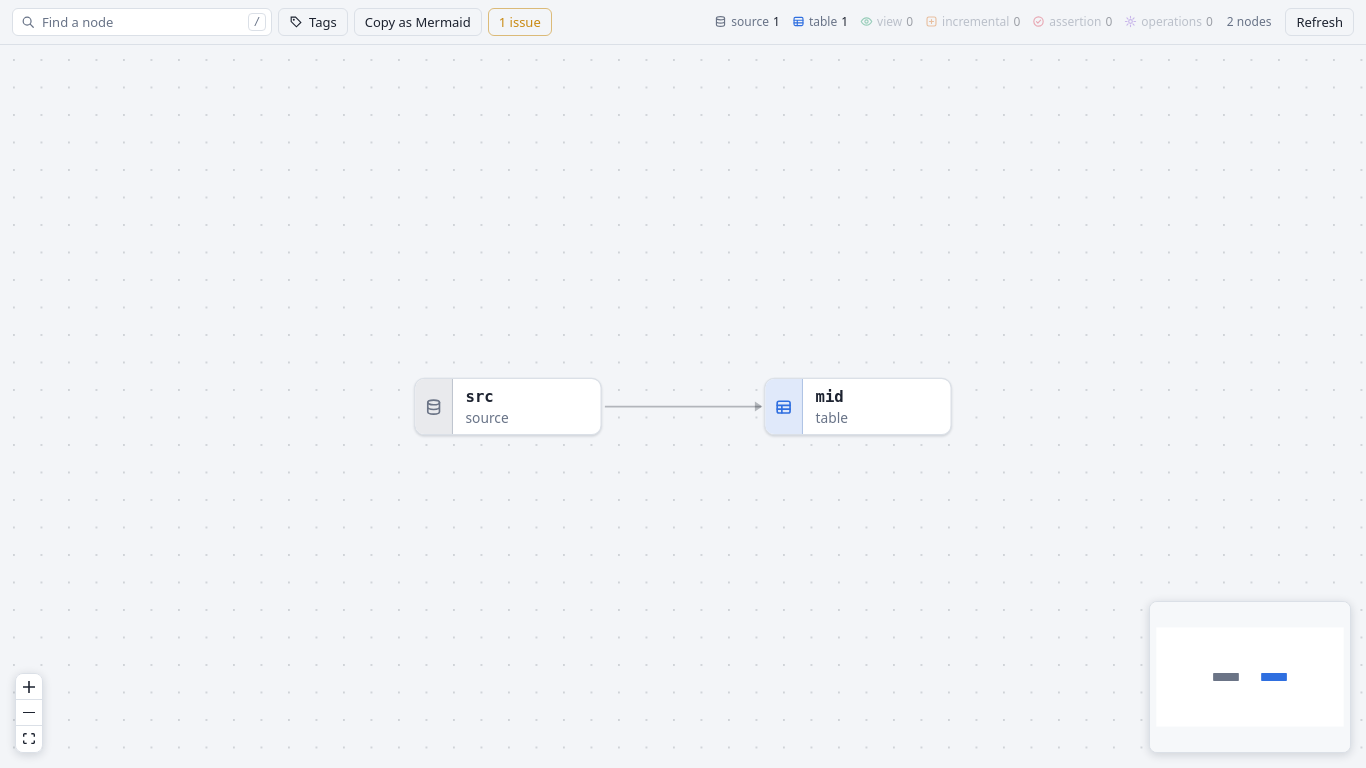
Scenario: diagnostics › lists a duplicate id with each of its files
Click the button "1 issue".
click(520, 22)  # box left=488, top=8, right=552, bottom=36
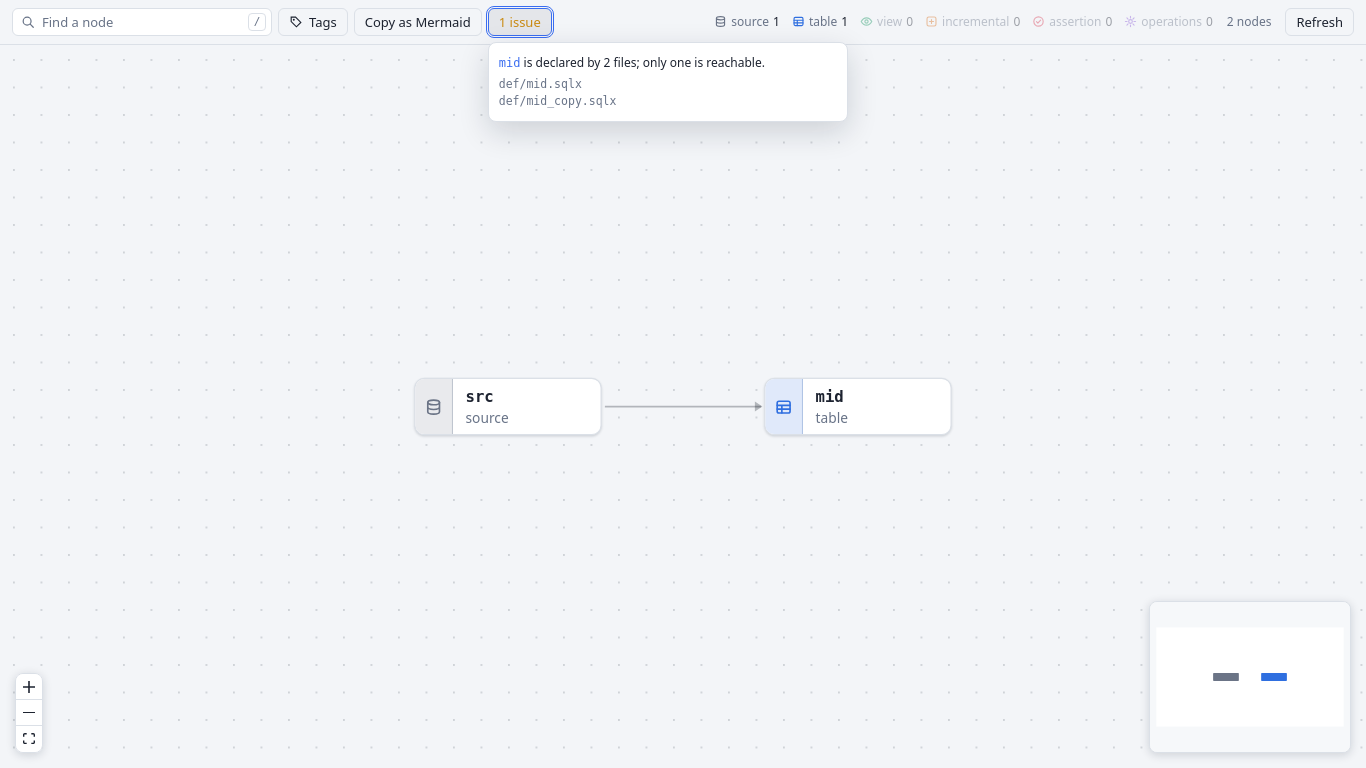
expect the text "def/mid_copy.sqlx" is shown: met, box left=499, top=94, right=616, bottom=108
